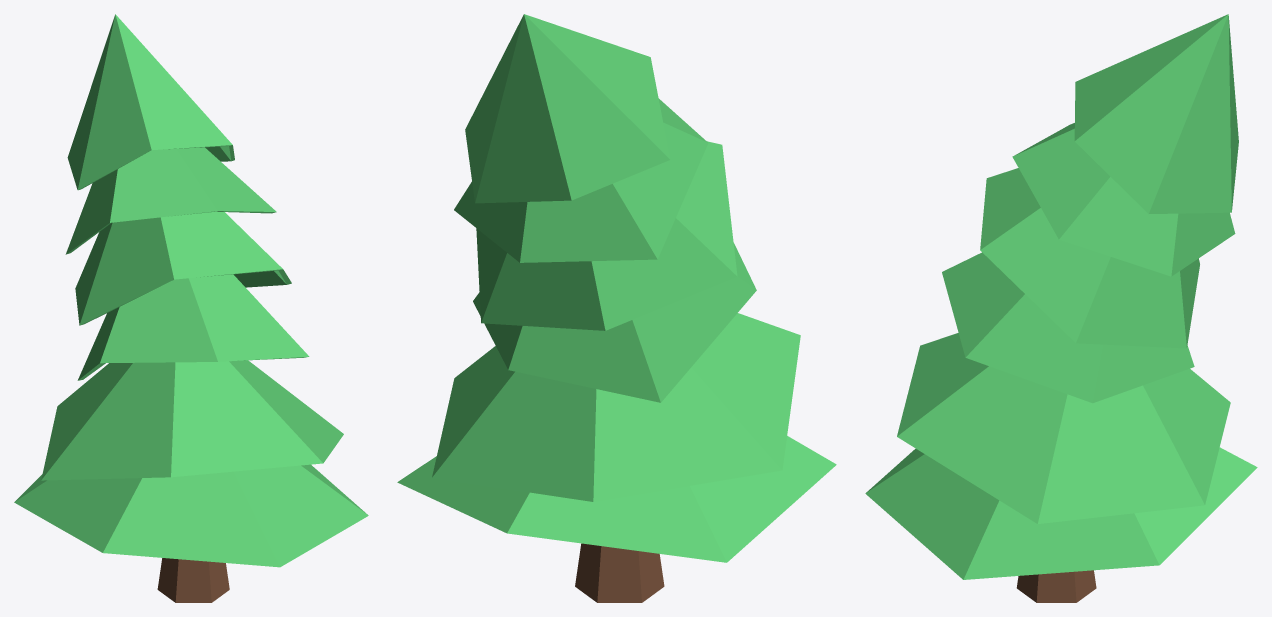
File: fir_tree_poly_7.fbx
3 renders of one model, left to right at view 1: azimuth 30°, elevation 25°; view 2: azimuth 150°, elevation 25°; view 3: azimuth 270°, elevation 25°, orthographic. The views are drawn at different scales.
Parts seen in each view (by area): view 1: fir_tree_poly_7; view 2: fir_tree_poly_7; view 3: fir_tree_poly_7.
Part boxes in pixels (<box>): fir_tree_poly_7: <box>14,14,368,602</box>; fir_tree_poly_7: <box>397,14,836,602</box>; fir_tree_poly_7: <box>865,14,1257,602</box>.
Size of the model in its own units: 2.99 by 5.23 by 3.24.
